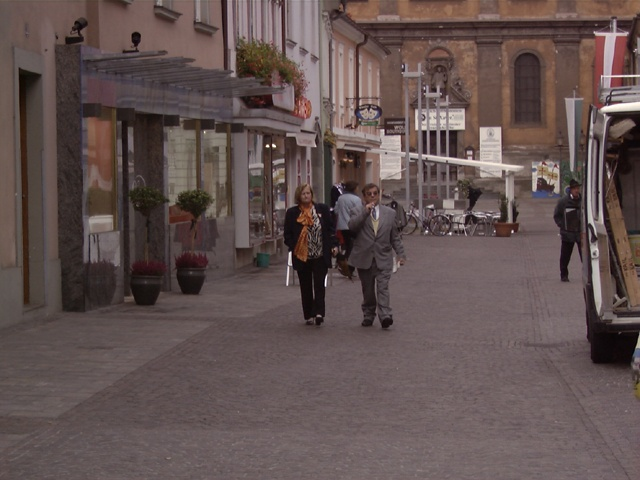person: (347, 184, 405, 332), (280, 183, 334, 323)
